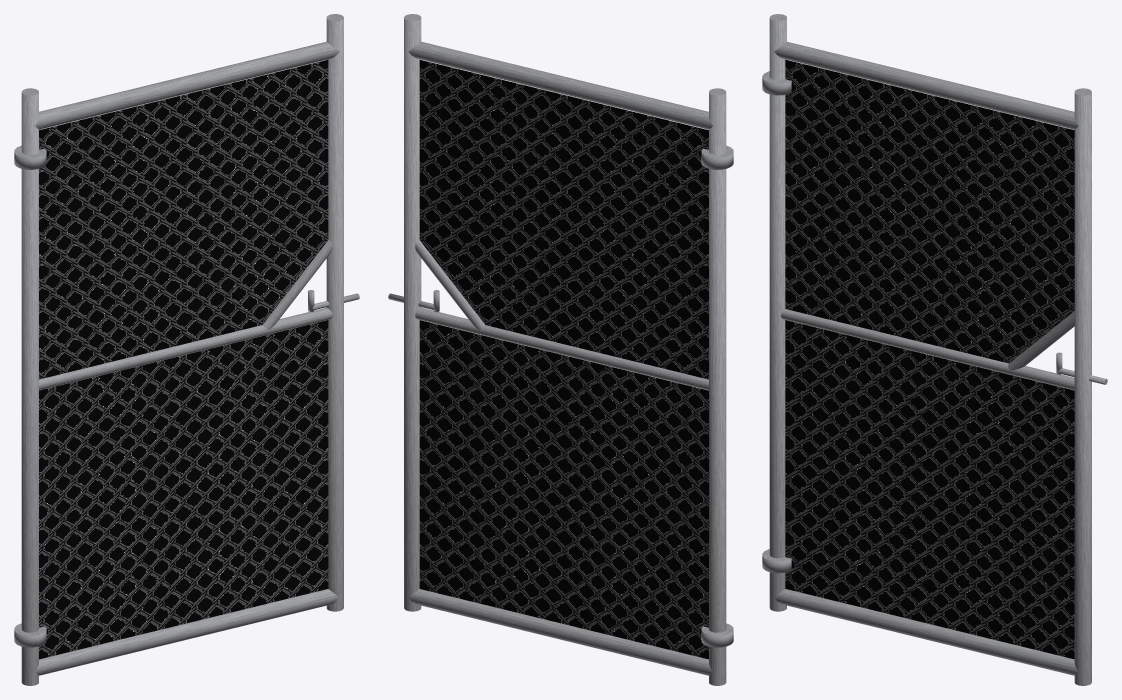
Rendered from fence-tall-gate-1m-cbj_LOD00.gltf.
3 renders of one model, left to right at view 1: azimuth 30°, elevation 25°; view 2: azimuth 150°, elevation 25°; view 3: azimuth 330°, elevation 25°, orthographic.
Visible parts, largest first — view 1: gate; view 2: gate; view 3: gate.
Part boxes in pixels (box(x1,y1,x2,y2)): gate: box(14, 14, 359, 685); gate: box(388, 14, 733, 685); gate: box(762, 14, 1107, 685).
Size of the model in its own units: 1.12 by 1.85 by 0.0924.
